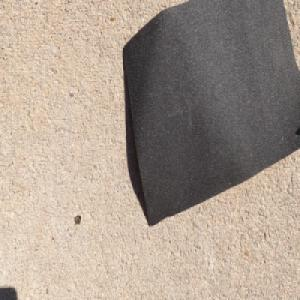PaintChip: (122, 0, 300, 228)
